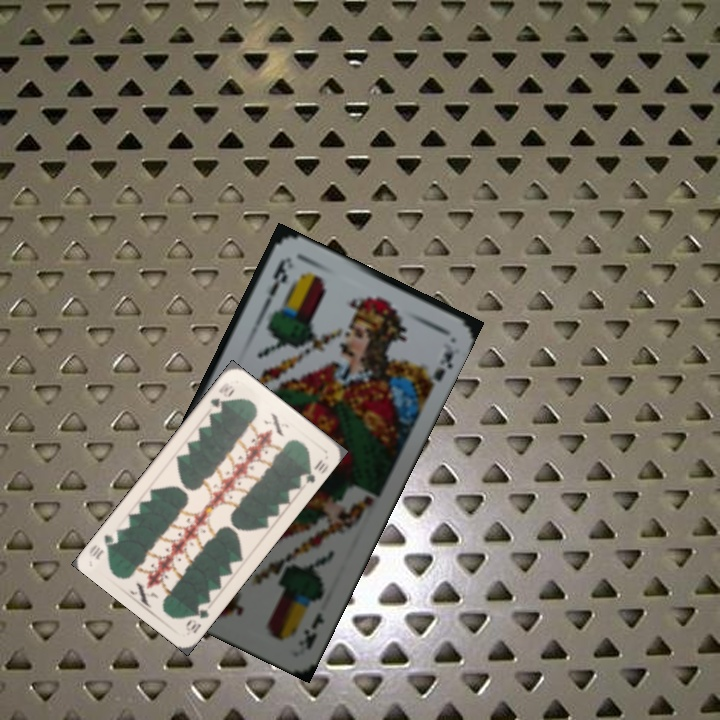EK: (260, 255, 290, 311), (299, 608, 327, 653)
G10: (181, 601, 213, 636), (206, 378, 235, 411)
